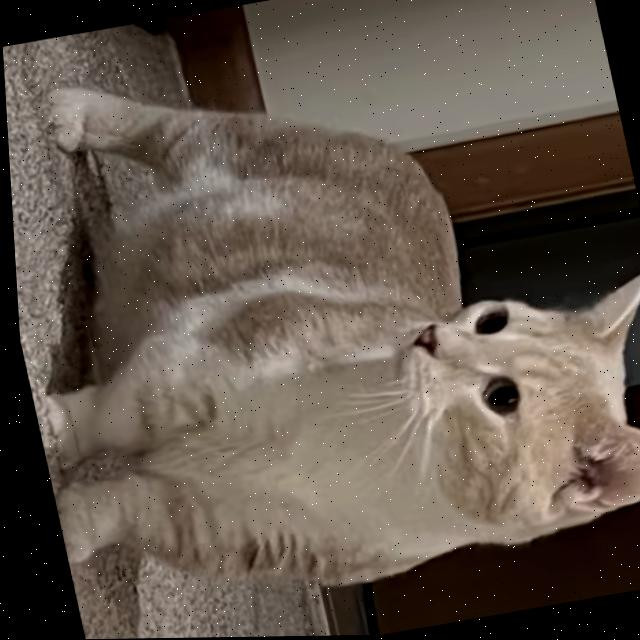Munchkin: (0, 0, 640, 633)
